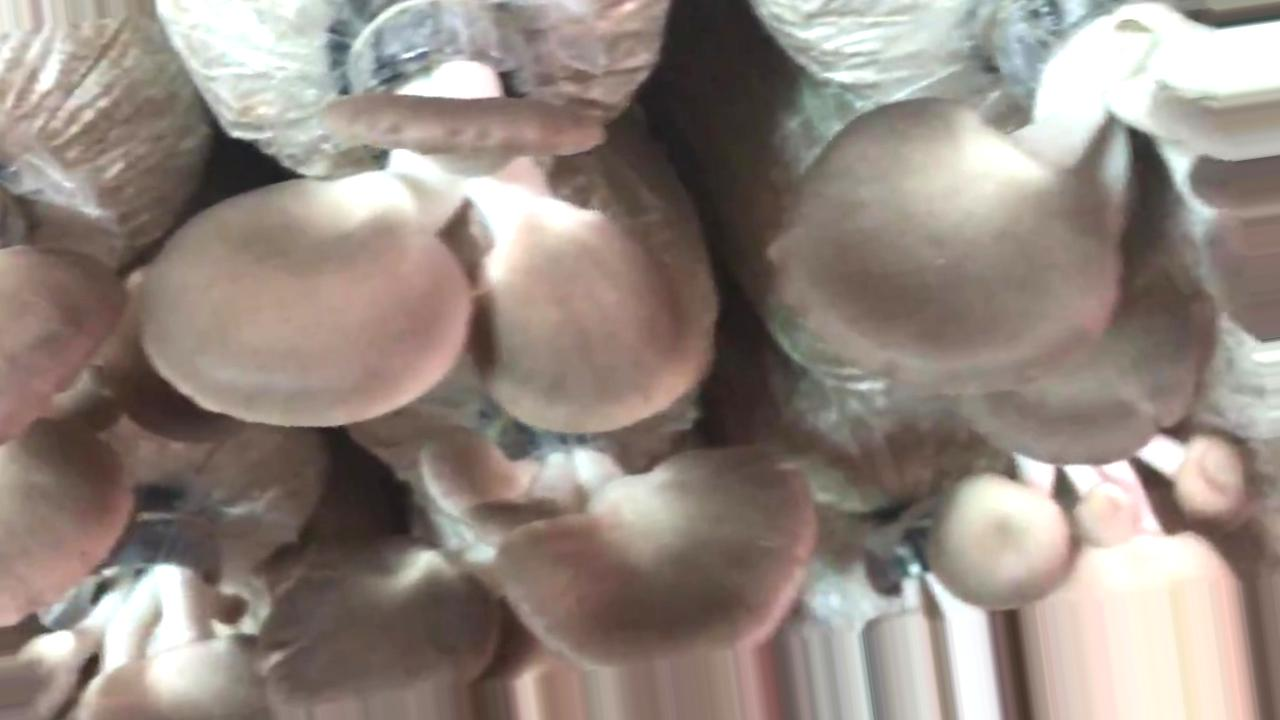nam: (144, 1, 692, 431), (796, 6, 1280, 463), (256, 427, 814, 720), (1, 503, 273, 720), (1, 246, 128, 621)
